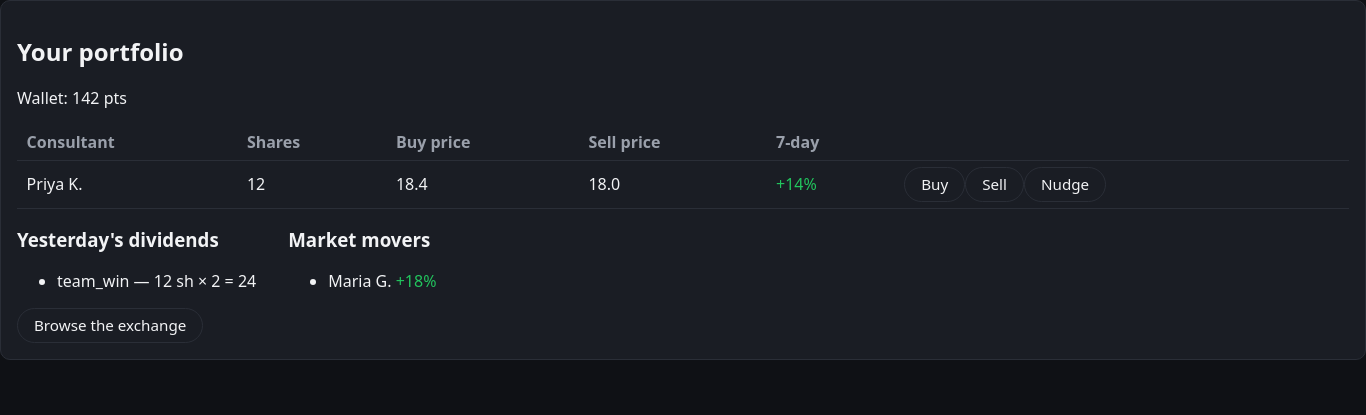
Portfolio › surfaces a rejected trade error rather than failing silently
Click the button "Buy" at (935,184), box left=904, top=167, right=965, bottom=202
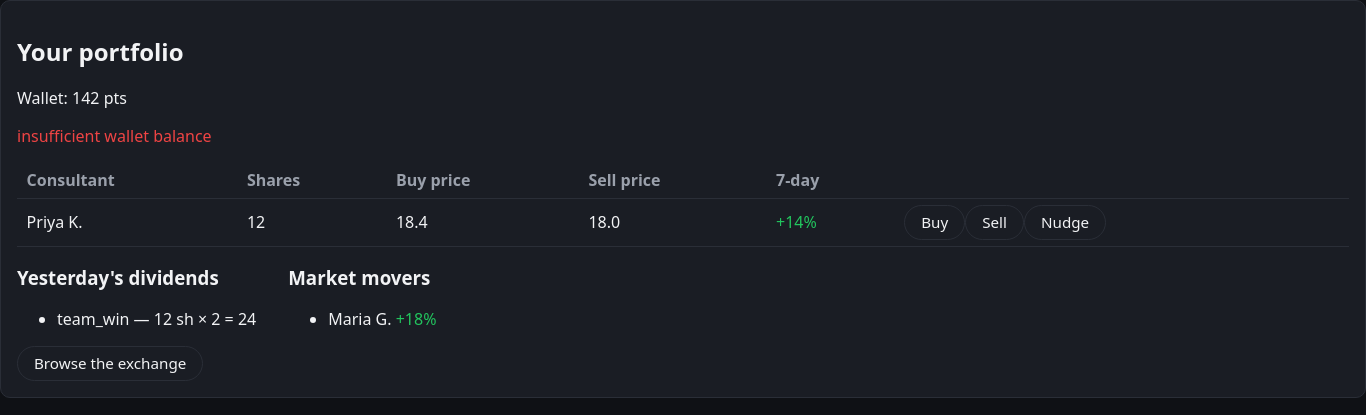
Expected: the message reads "insufficient wallet balance", left=17, top=125, right=212, bottom=147
